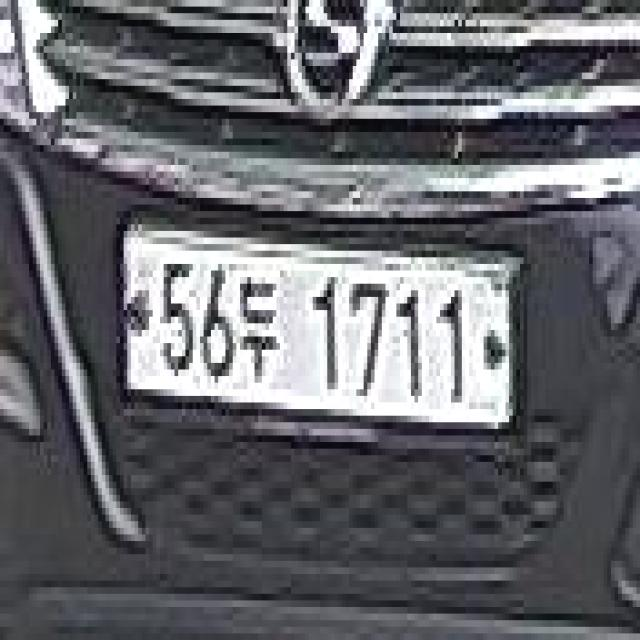illegal_plate: (122, 212, 521, 459)
